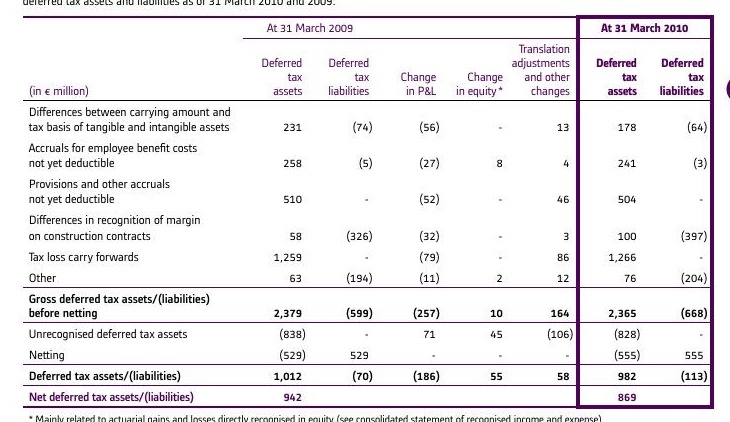table: (0, 0, 730, 422)
